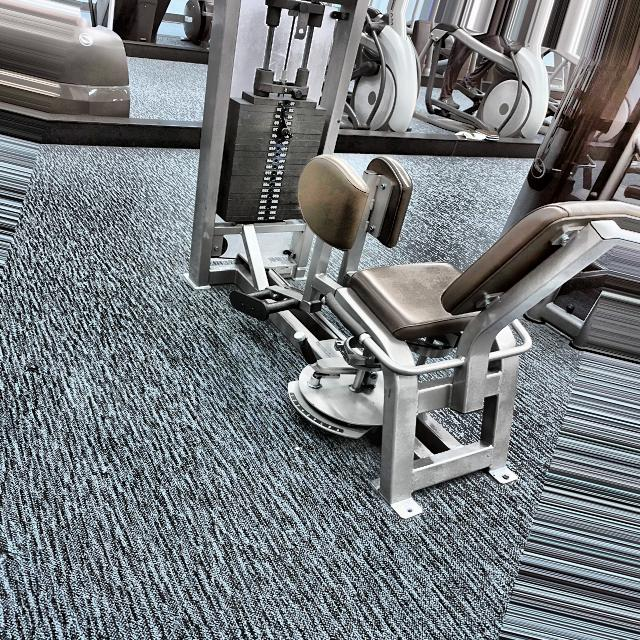hip_adduction_machine: (227, 123, 517, 487)
